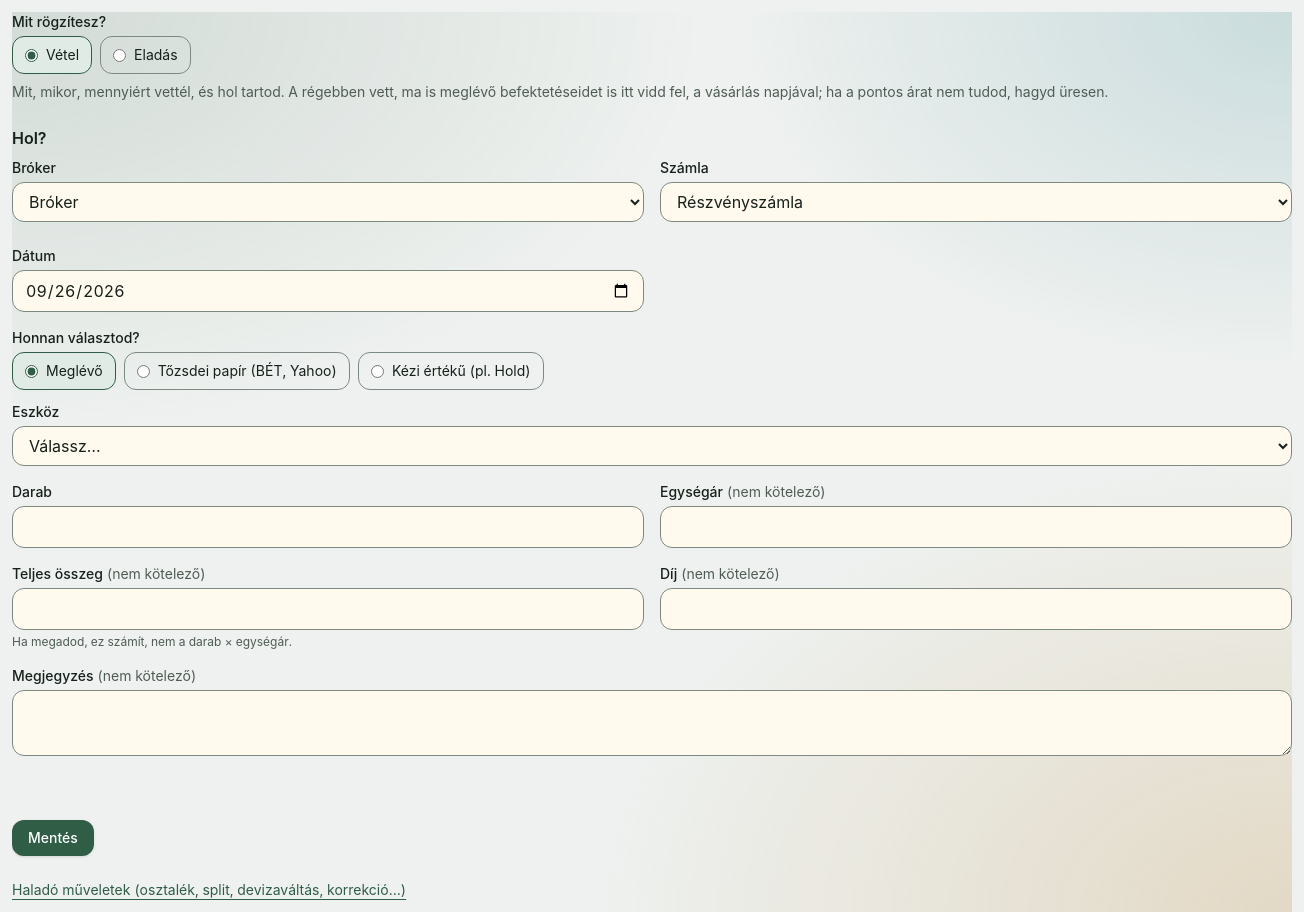
Test: EntryForm – Vétel and Eladás (4c plan §2, without the Mai állomány tab since 2026-09-27) › a failed refresh after the save only asks for the Frissítés button
The image size is (1304, 912).
Click the button "Mentés".
click(53, 838)  # box [12, 820, 94, 856]
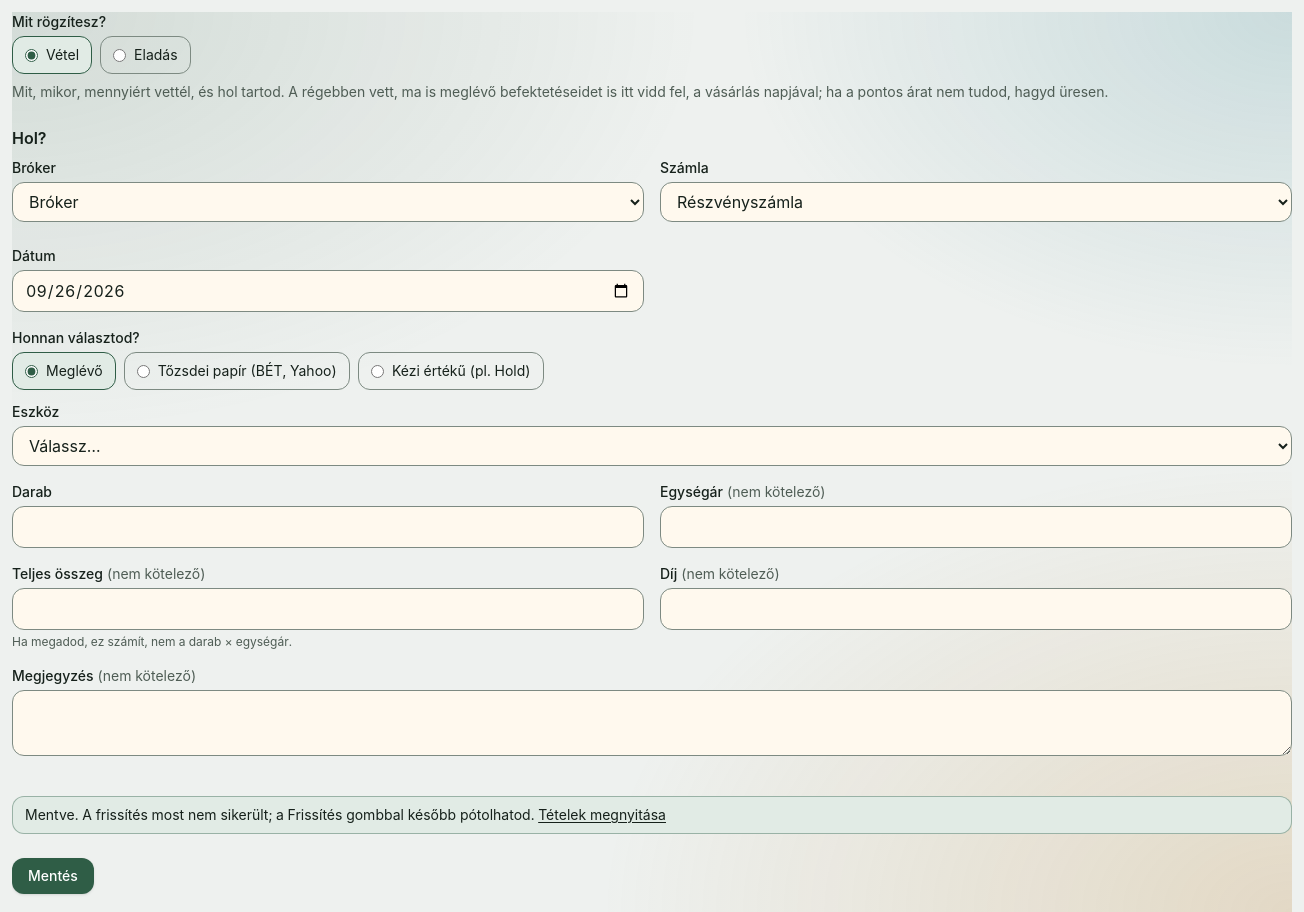
Now the text "A frissítés most nem sikerült" is shown, box [82, 806, 538, 823]
Now the text "Mentve." is shown, box [25, 806, 78, 823]
